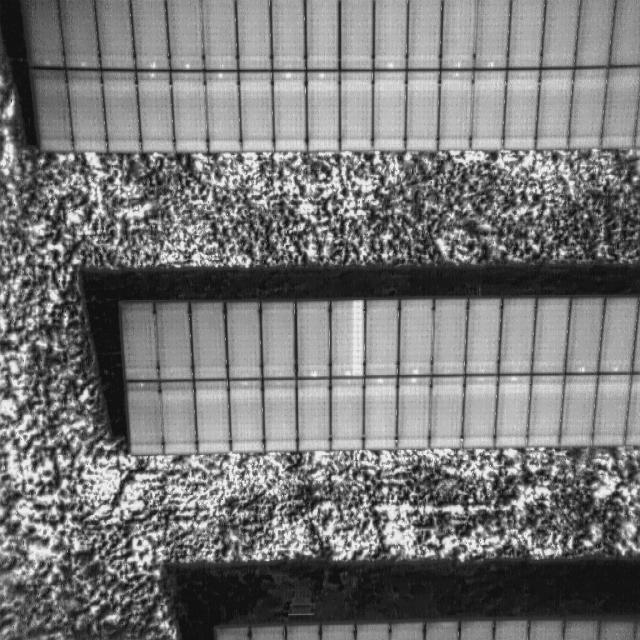diode: (326, 302, 366, 381)
hotspot: (452, 57, 464, 81), (144, 60, 158, 79)
